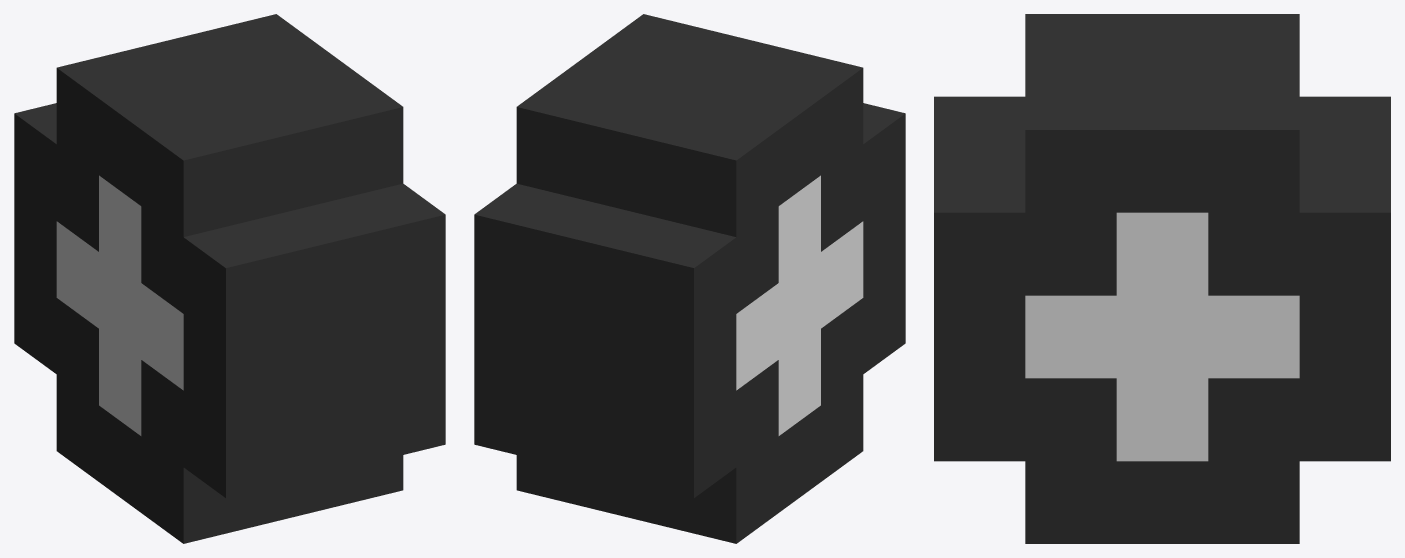
Rendered from roda.obj.
3 views of the same model, side by side, from view 1: azimuth 30°, elevation 25°; view 2: azimuth 150°, elevation 25°; view 3: azimuth 270°, elevation 25° (orthographic). The views are drawn at different scales.
Bounding box in the file's own units: 0.3 × 0.5 × 0.5.
1 material, 1 textured.
